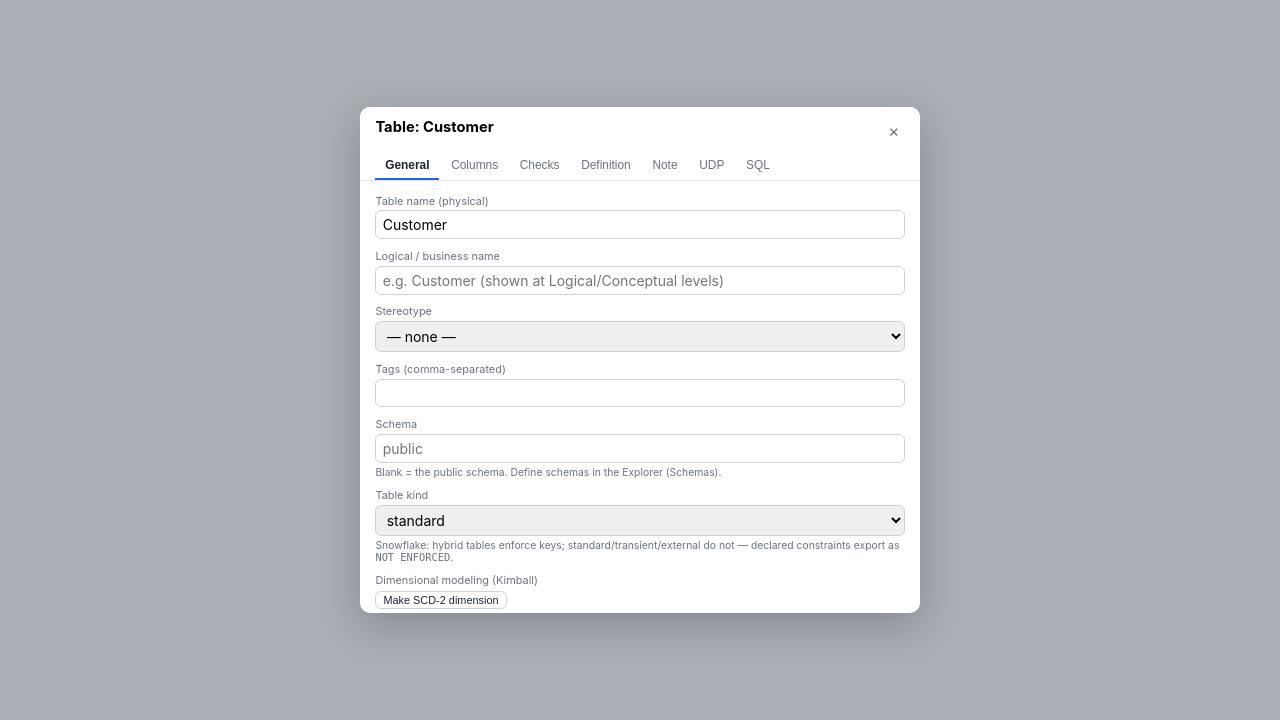
Test case: Inspector DDL tab honours the model dialect › renders Snowflake types for a snowflake model
Step 1. Click the button with class "tab-btn" showing "SQL" → {"x": 758, "y": 166}, box 736,153 -> 780,180
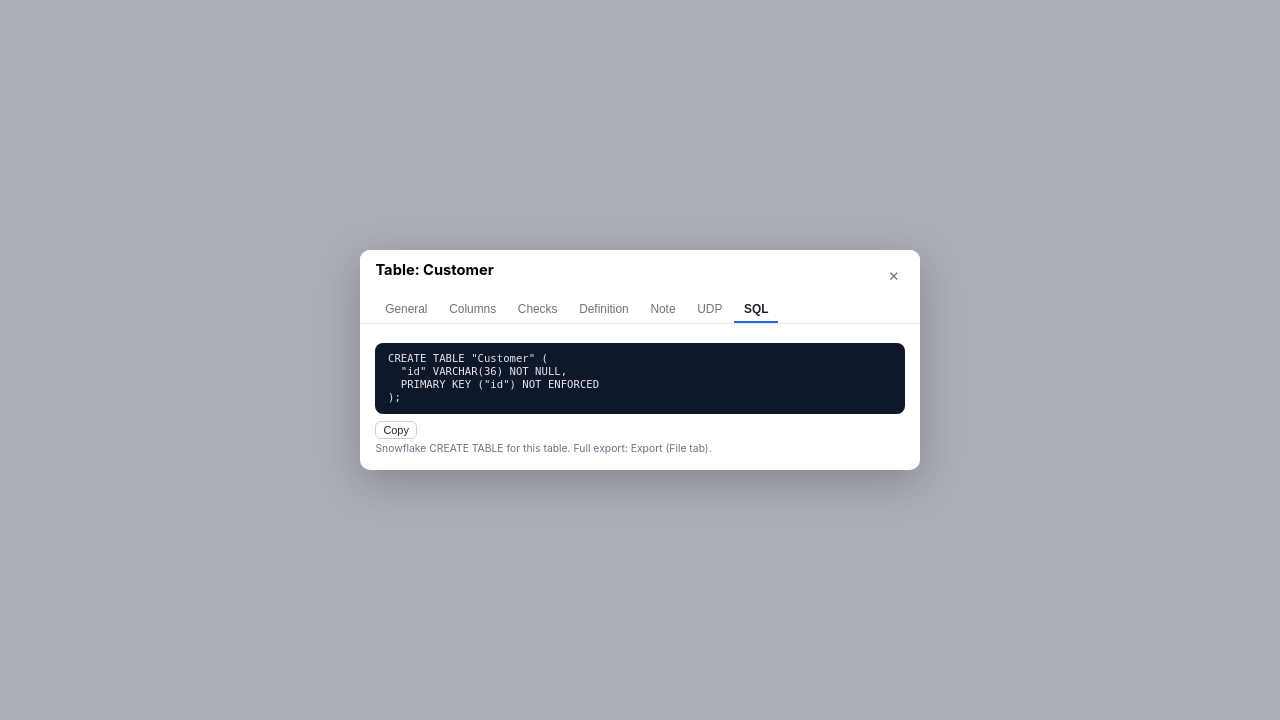
Check: the text with class "export-preview" shows "VARCHAR(36)", box 388,352 -> 599,404
Check: the text "Snowflake CREATE TABLE" is shown, box 375,442 -> 712,454
